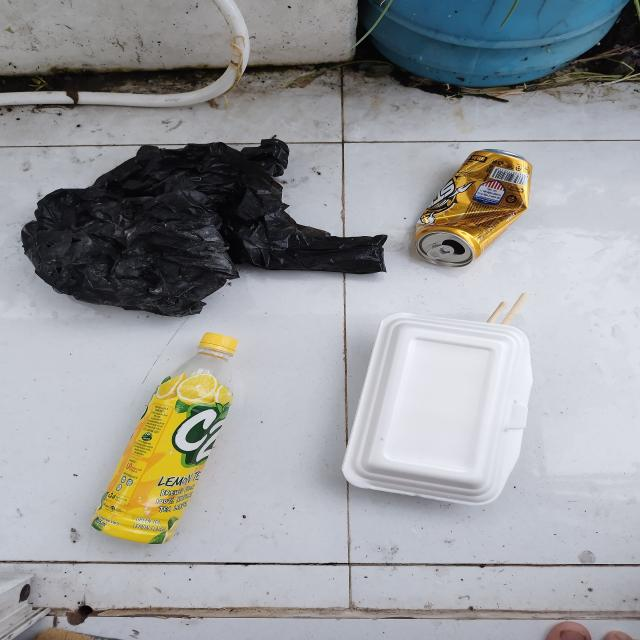bag: (21, 138, 387, 318)
bottle: (89, 332, 240, 546)
can: (416, 148, 532, 268)
foam box: (340, 312, 534, 506)
